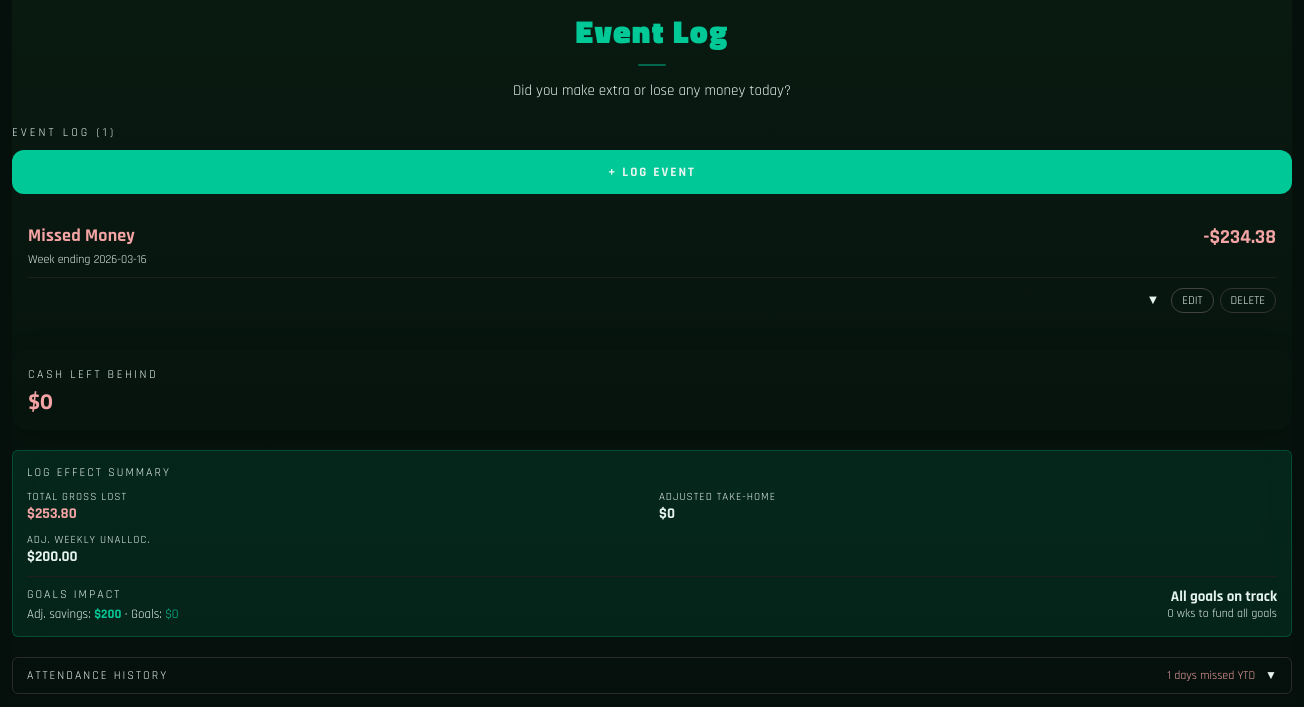
Test case: Attendance History — monthly breakdown › shows the By Month label when events exist
This screenshot has width=1304, height=707.
Click the button "Attendance History 1 days missed YTD ▼": (98, 675) x1=12 y1=657 x2=1292 y2=694
(page scrolled)
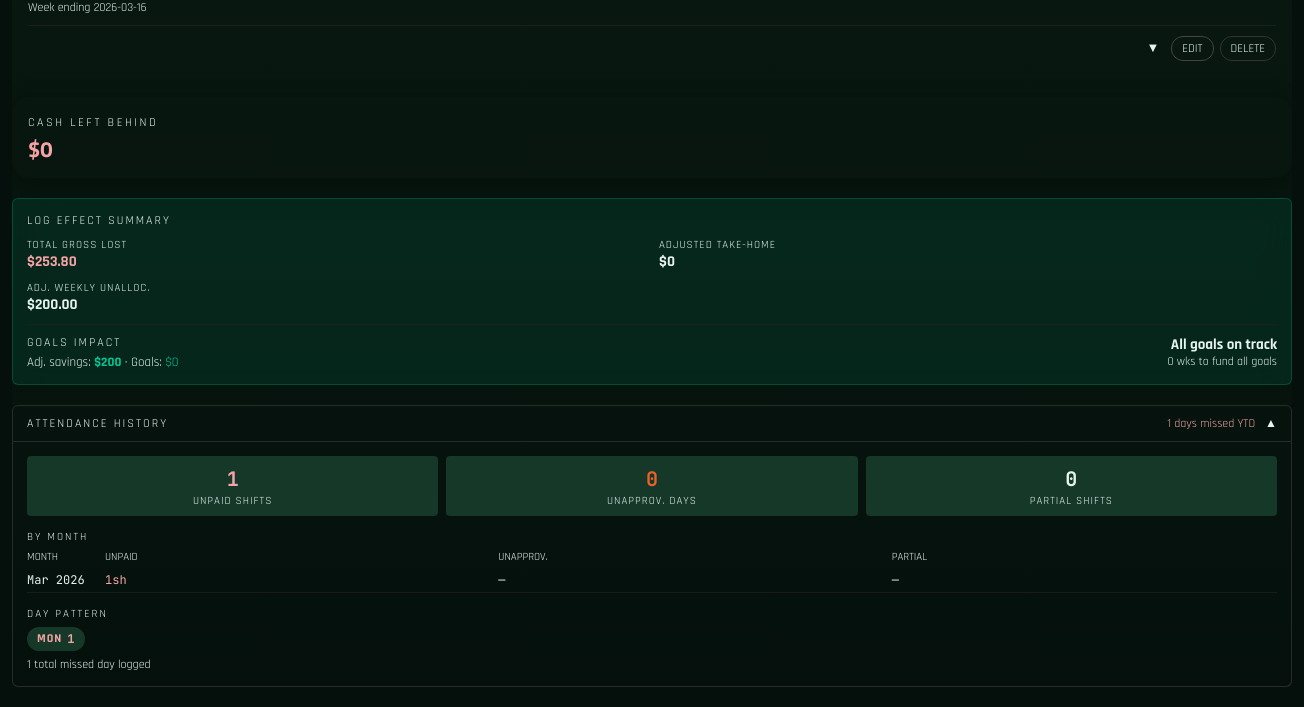
Expected: the text "By Month" is shown, x1=27 y1=530 x2=88 y2=544
